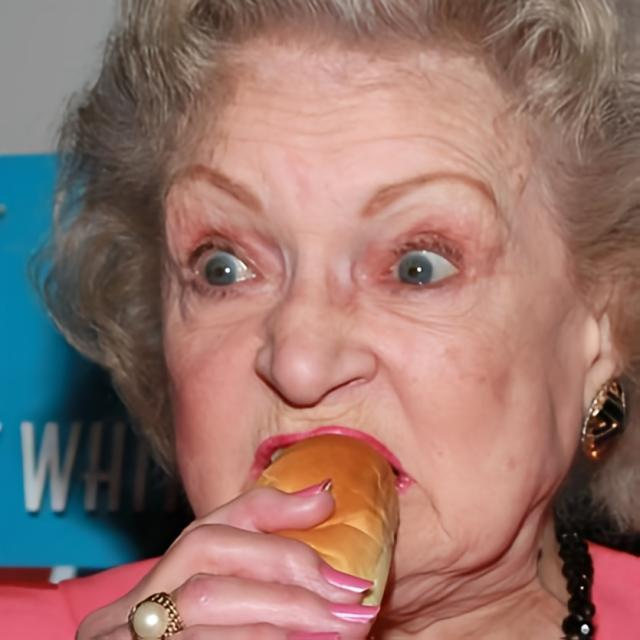disgust: (152, 18, 586, 616)
